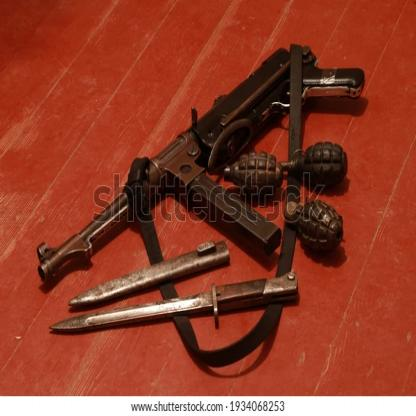Grenade: (279, 139, 350, 191), (284, 196, 344, 253), (223, 147, 284, 197)
Gun: (36, 42, 366, 285)
Knife: (48, 268, 301, 334)
